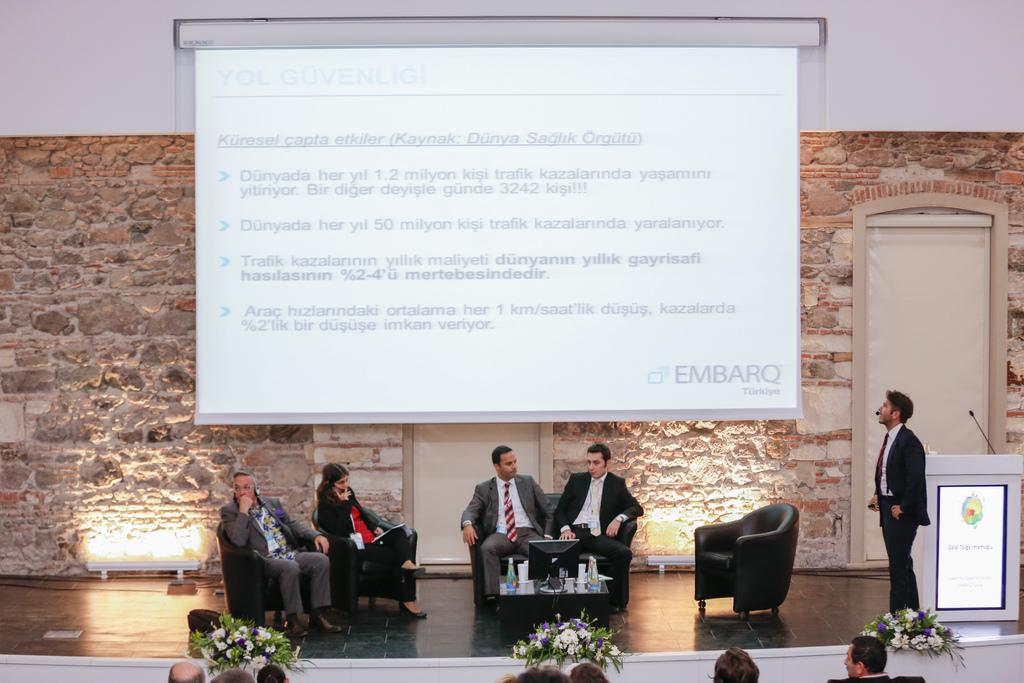Chair: (693, 503, 799, 619)
